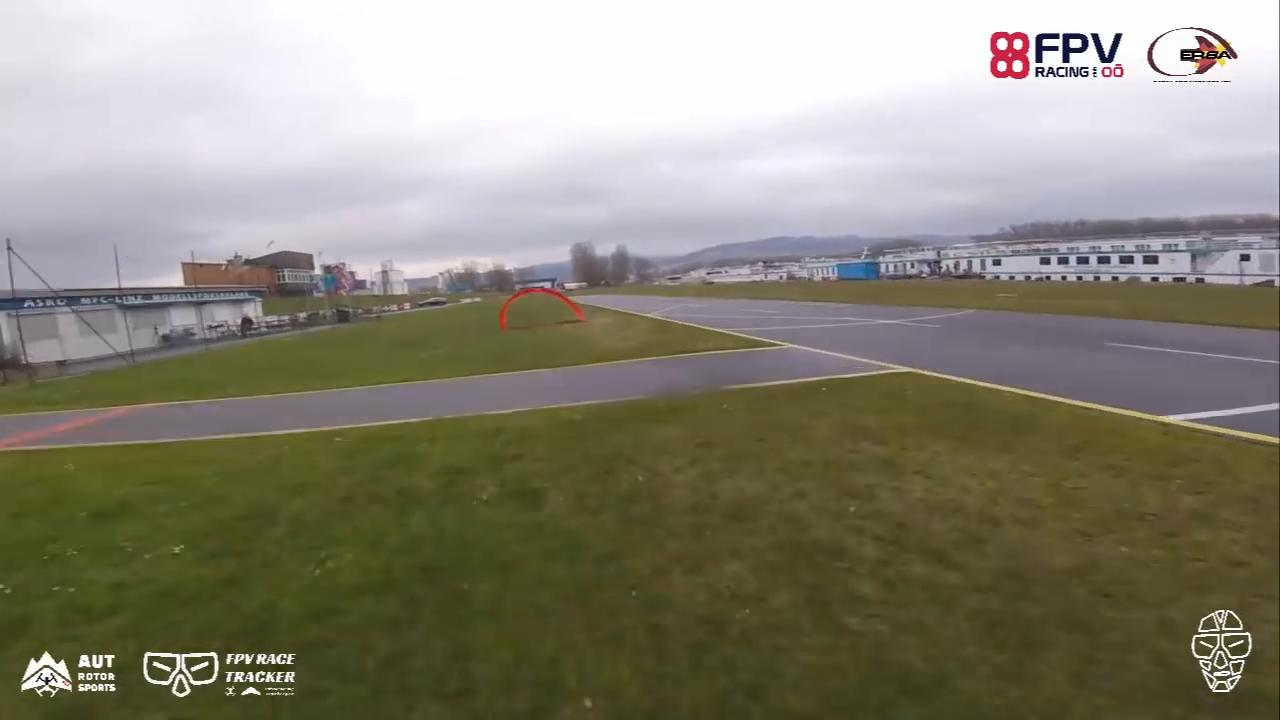gate: (499, 283, 586, 331)
